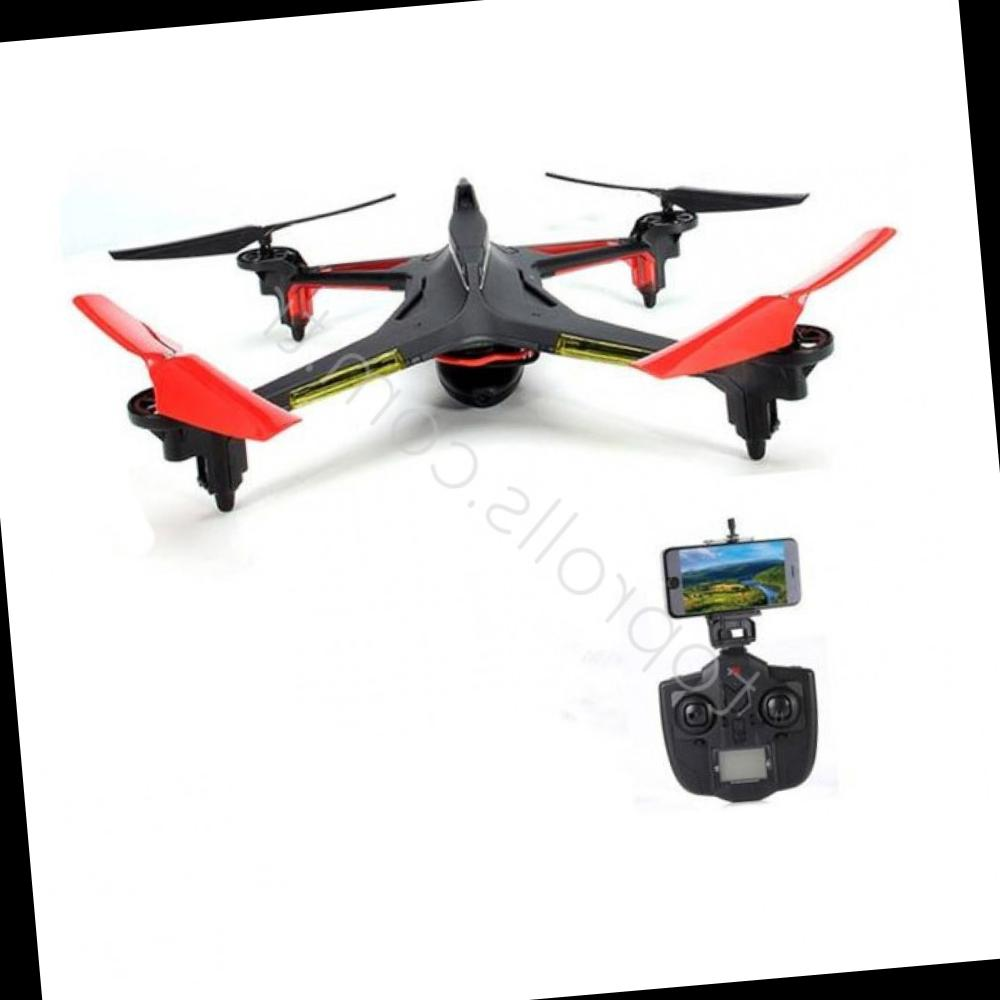drone: (25, 123, 934, 584)
